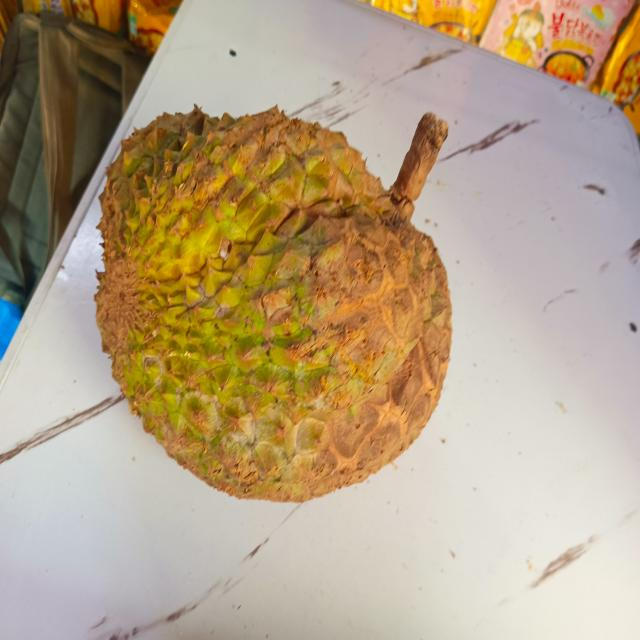mature: (89, 96, 450, 501)
